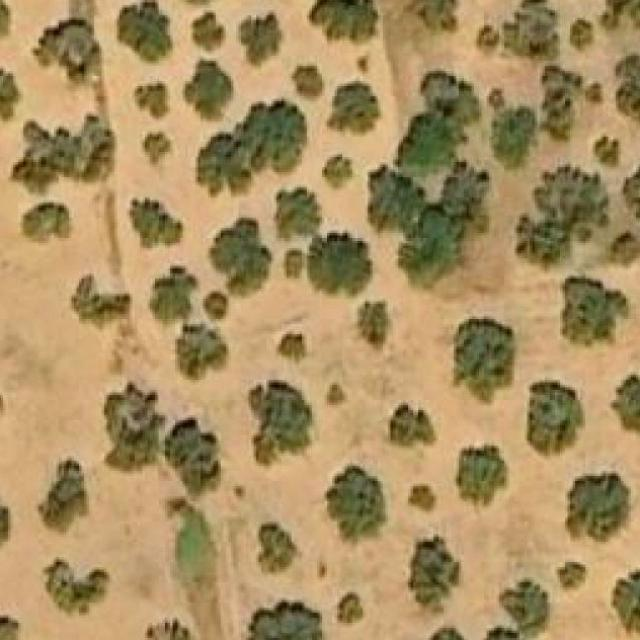Tree: (197, 99, 307, 201), (10, 116, 115, 192), (101, 383, 165, 477), (248, 380, 312, 466), (560, 276, 629, 354), (454, 314, 514, 403), (324, 466, 388, 547), (524, 380, 586, 461), (400, 210, 464, 286), (542, 64, 606, 140), (562, 473, 631, 542), (34, 18, 102, 84), (306, 233, 372, 299), (164, 418, 218, 494), (410, 536, 461, 616), (36, 458, 89, 534), (397, 114, 461, 176), (218, 220, 271, 294), (542, 167, 606, 228), (44, 559, 110, 618), (501, 0, 557, 64), (68, 274, 130, 327), (307, 0, 378, 46), (456, 443, 506, 508), (182, 59, 233, 122), (247, 599, 325, 640), (150, 263, 198, 327), (120, 0, 170, 61), (130, 198, 185, 253), (326, 79, 380, 135), (273, 187, 324, 243), (238, 10, 284, 71), (520, 218, 568, 273), (493, 106, 537, 165), (503, 580, 547, 636), (255, 522, 299, 575), (177, 327, 228, 371), (372, 174, 415, 223), (611, 569, 640, 638), (614, 47, 640, 121), (390, 403, 433, 447), (354, 302, 388, 352), (614, 373, 640, 437), (139, 132, 172, 177), (135, 81, 170, 122), (22, 202, 66, 233), (276, 332, 315, 366), (416, 0, 459, 30), (608, 229, 640, 268), (195, 12, 226, 51), (0, 67, 22, 121), (291, 64, 324, 99), (405, 484, 436, 518), (601, 0, 640, 27), (322, 155, 352, 190), (0, 494, 13, 568), (337, 592, 363, 626), (569, 18, 593, 54), (592, 135, 618, 168), (557, 562, 585, 587), (476, 25, 499, 54), (0, 612, 22, 640), (281, 250, 302, 279), (327, 378, 347, 408), (207, 291, 228, 319)
